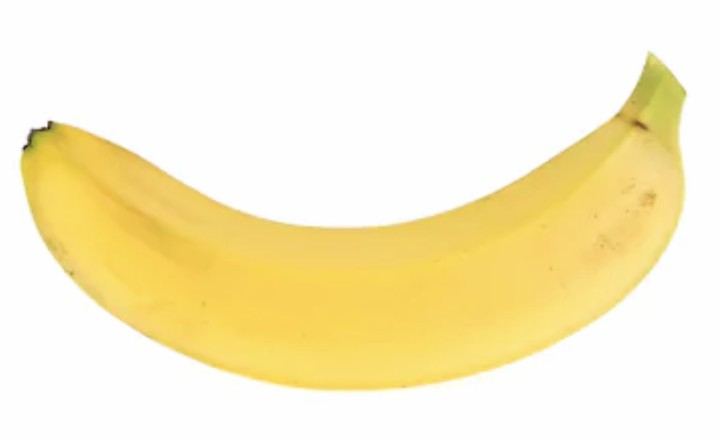fresh_banana: (22, 53, 686, 389)
